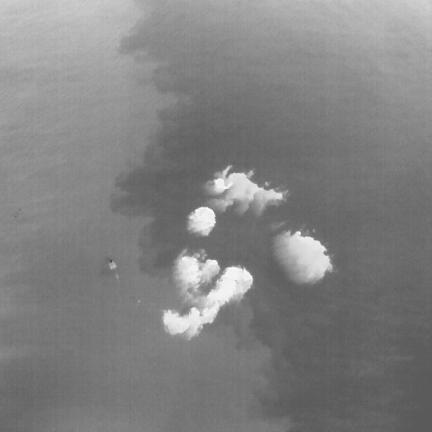flukeprints: (163, 267, 252, 339), (203, 166, 287, 215), (273, 231, 332, 284), (173, 251, 219, 303), (188, 207, 215, 235)
